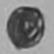correct: (6, 4, 48, 52)
